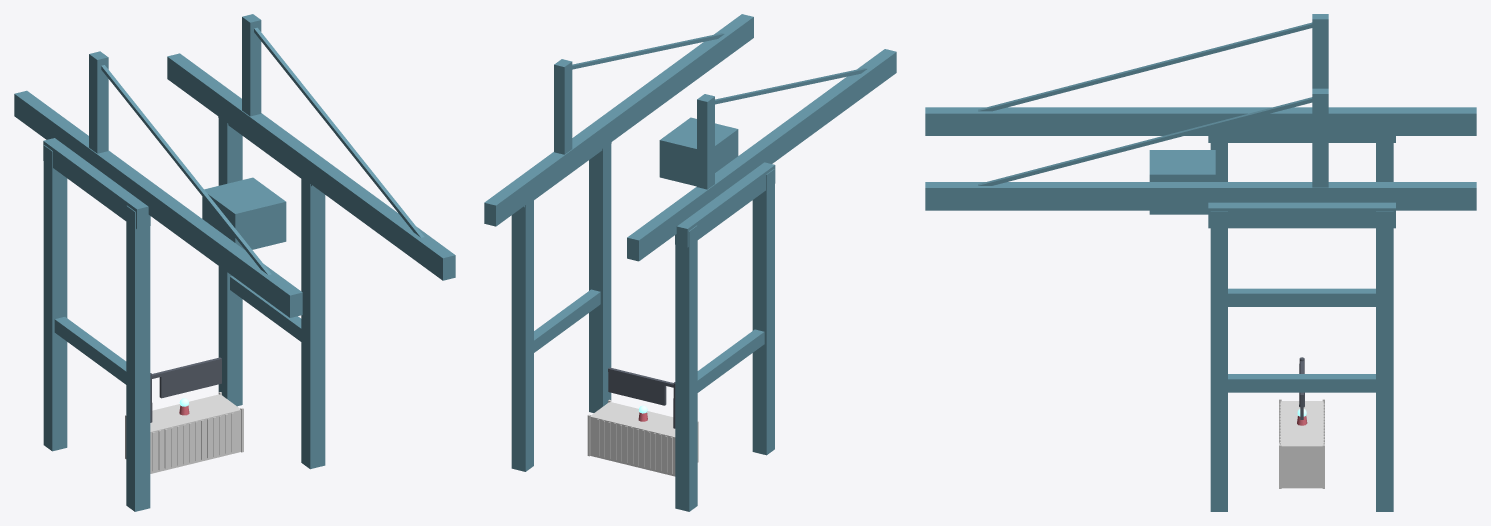
The model's file is harbour_props.glb.
3 views of the same model, side by side, from view 1: azimuth 30°, elevation 25°; view 2: azimuth 150°, elevation 25°; view 3: azimuth 270°, elevation 25° (orthographic). The views are drawn at different scales.
Parts seen in each view (by area): view 1: crane, container, neon_frame; view 2: crane, container, neon_frame; view 3: crane, container.
Boxes of the visible parts, x1=… form: crane: x1=14, y1=14, x2=455, y2=511; container: x1=125, y1=392, x2=243, y2=473; neon_frame: x1=150, y1=357, x2=221, y2=422; crane: x1=484, y1=14, x2=896, y2=511; container: x1=587, y1=399, x2=698, y2=476; neon_frame: x1=608, y1=367, x2=675, y2=428; crane: x1=925, y1=14, x2=1476, y2=511; container: x1=1279, y1=399, x2=1324, y2=488.
Size of the model in its own units: 11.95 by 24.78 by 30.
